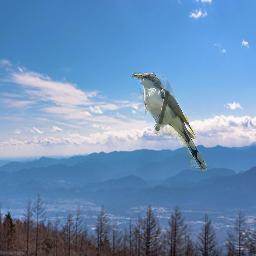Cuckoo: (132, 72, 207, 171)
